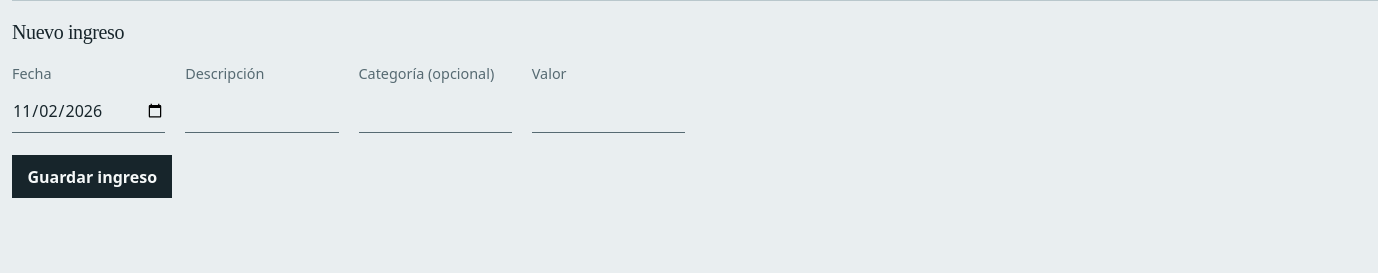
IncomeForm › shows validation errors and does not submit invalid data
Click the button "Guardar ingreso" at (92, 177), box [12,155,172,198]
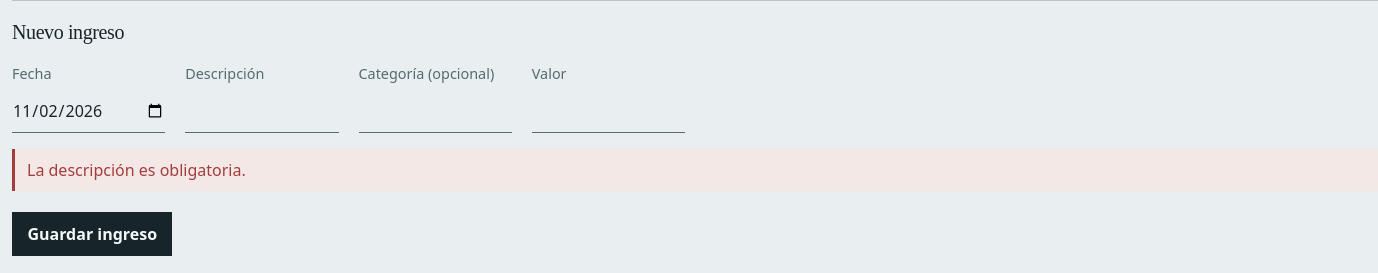
expect the message reads "La descripción es obligatoria.": met, box [27,159,246,181]
Type "Salario" into the field labelled "Descripción" at (262, 112), box [185,91,339,133]
Type "0" into the number field labelled "Valor" at (608, 112), box [532,91,685,133]
Click the button "Guardar ingreso" at (92, 234), box [12,212,172,256]
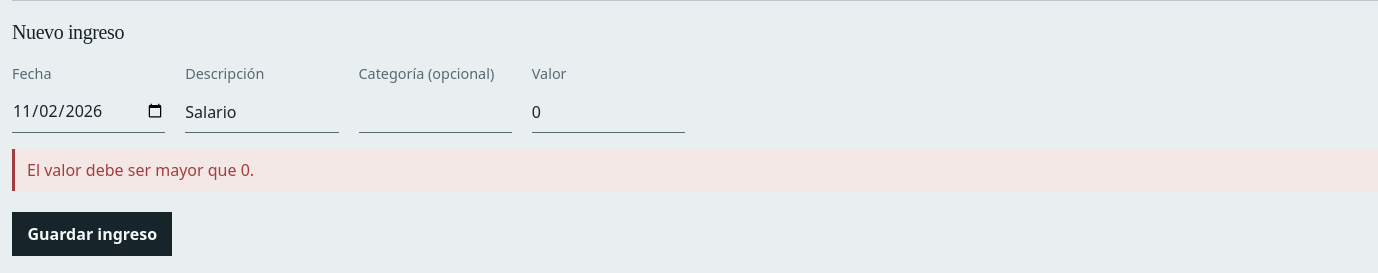
expect the message reads "El valor debe ser mayor que 0.": met, box [27,159,254,181]
Replace the text in the number field labelled "Valor" with "1.234" at (608, 112), box [532,91,685,133]
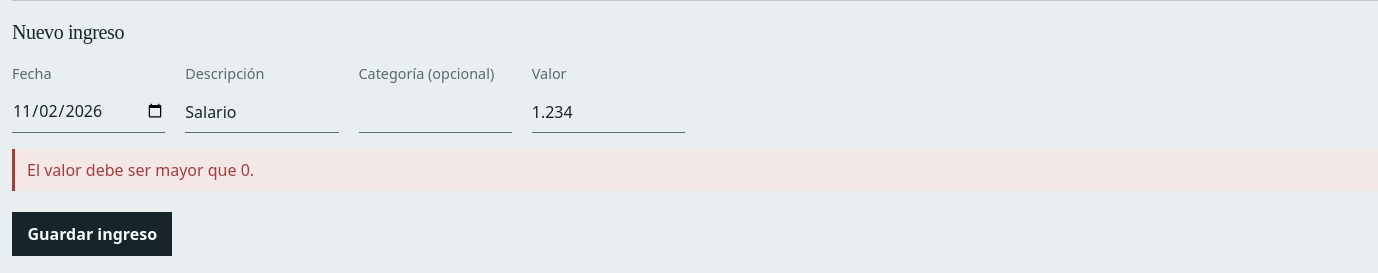
Click the button "Guardar ingreso" at (92, 234), box [12,212,172,256]
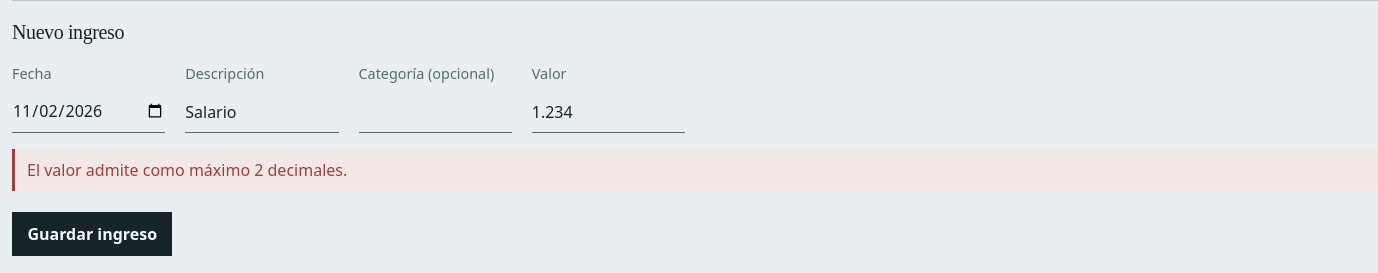
expect the message reads "El valor admite como máximo 2 decimales.": met, box [27,159,347,181]
Replace the text in the number field labelled "Valor" with "10000000000.00" at (608, 112), box [532,91,685,133]
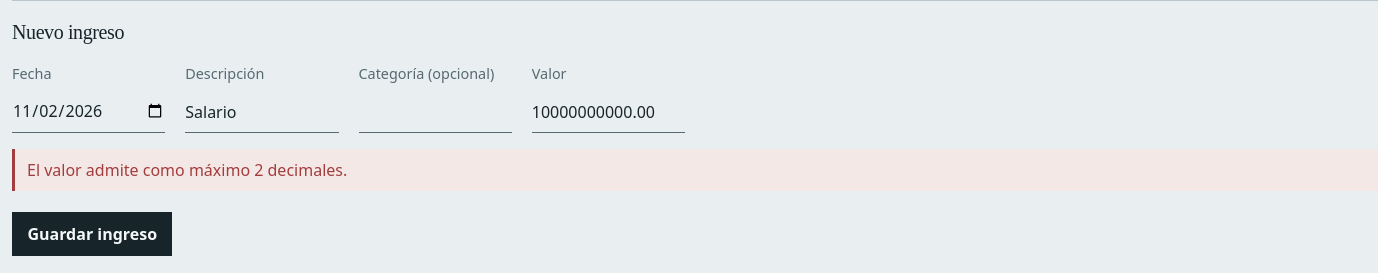
Click the button "Guardar ingreso" at (92, 234), box [12,212,172,256]
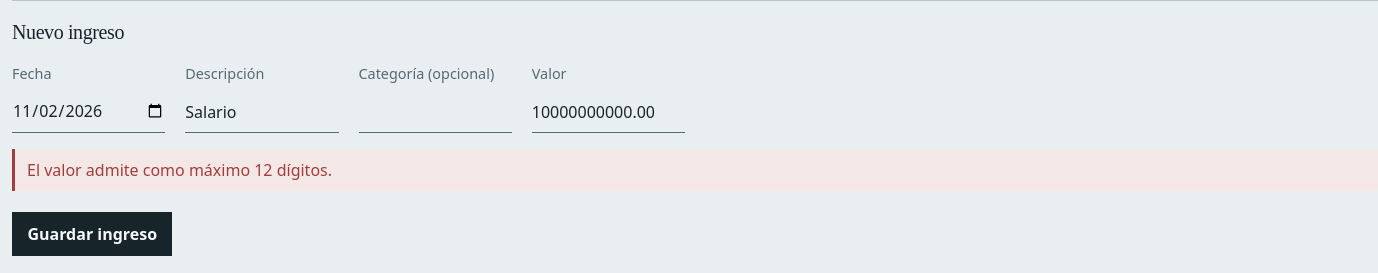
expect the message reads "El valor admite como máximo 12 dígitos.": met, box [27,159,332,181]
